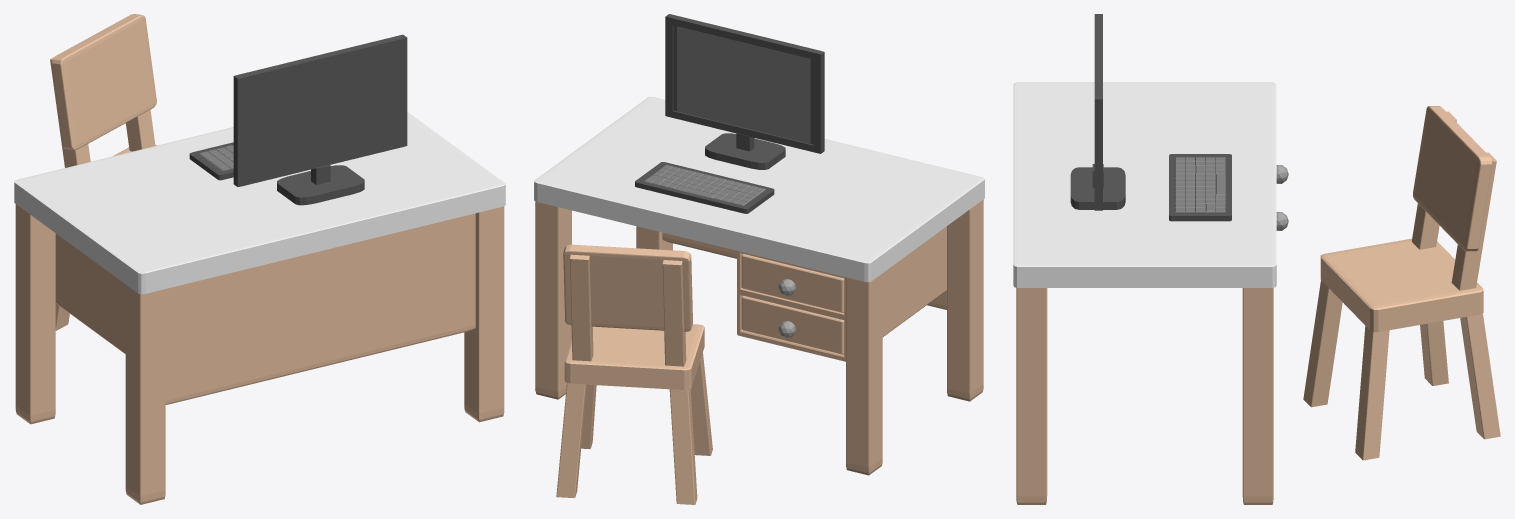
File: computer_desk.fbx
3 renders of one model, left to right at view 1: azimuth 30°, elevation 25°; view 2: azimuth 150°, elevation 25°; view 3: azimuth 270°, elevation 25°, orthographic. The views are drawn at different scales.
Parts seen in each view (by area): view 1: Table 1, PC 1, Chair 1, Keyboard 1; view 2: Table 1, Chair 1, PC 1, Keyboard 1; view 3: Table 1, Chair 1, Keyboard 1, PC 1.
Boxes of the visible parts, left/top/right/bottom form: Table 1: left=14, top=112, right=505, bottom=504; PC 1: left=233, top=34, right=407, bottom=205; Chair 1: left=50, top=14, right=157, bottom=330; Keyboard 1: left=189, top=142, right=233, bottom=180; Table 1: left=534, top=97, right=984, bottom=475; Chair 1: left=556, top=244, right=712, bottom=504; PC 1: left=665, top=14, right=824, bottom=169; Keyboard 1: left=635, top=162, right=774, bottom=213; Table 1: left=1013, top=82, right=1288, bottom=504; Chair 1: left=1303, top=106, right=1500, bottom=460; Keyboard 1: left=1169, top=154, right=1231, bottom=221; PC 1: left=1070, top=14, right=1125, bottom=210.
Size of the model in its own units: 282 by 268 by 315.
